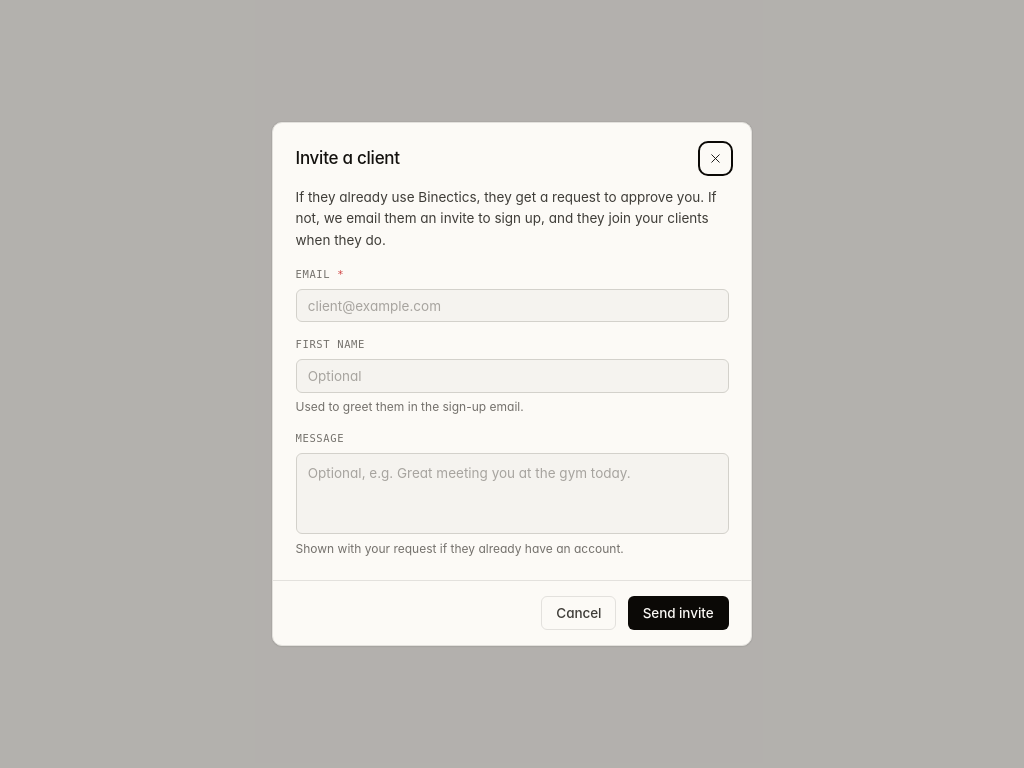
it: Invite client on a full plan › says what the plan includes and links Billing, not raw API text
In the field labelled "Email *": (512, 306) [296,289,728,322], type "ada@example.com"
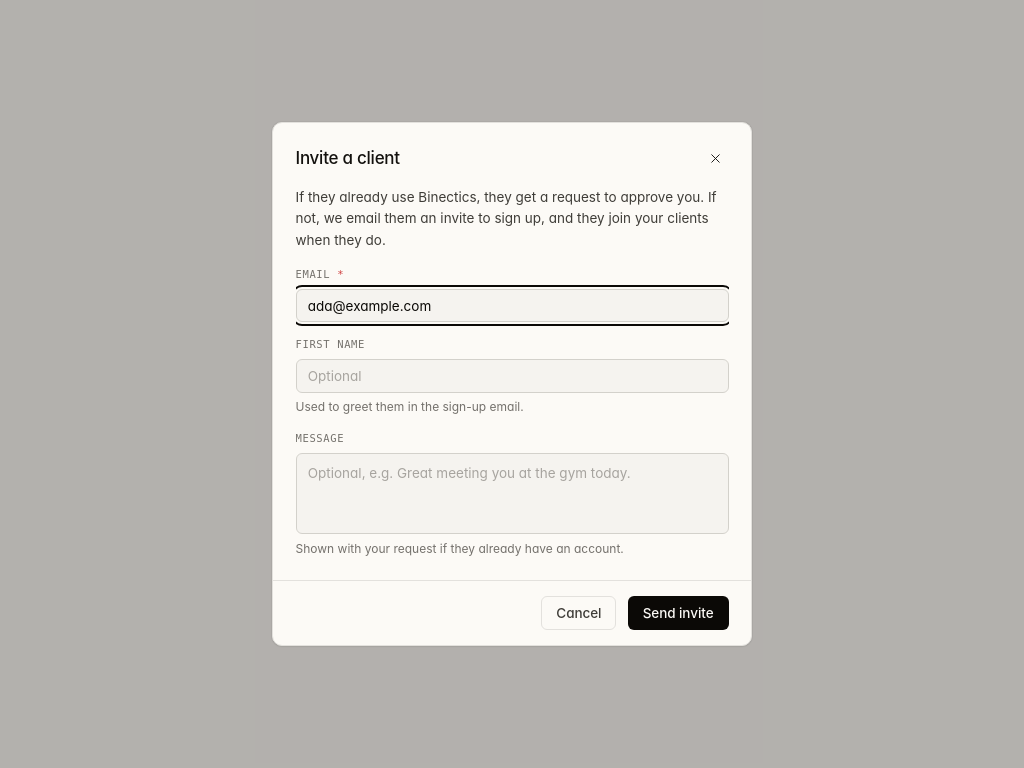
Click the button "Send invite": (678, 613) [628,596,728,630]
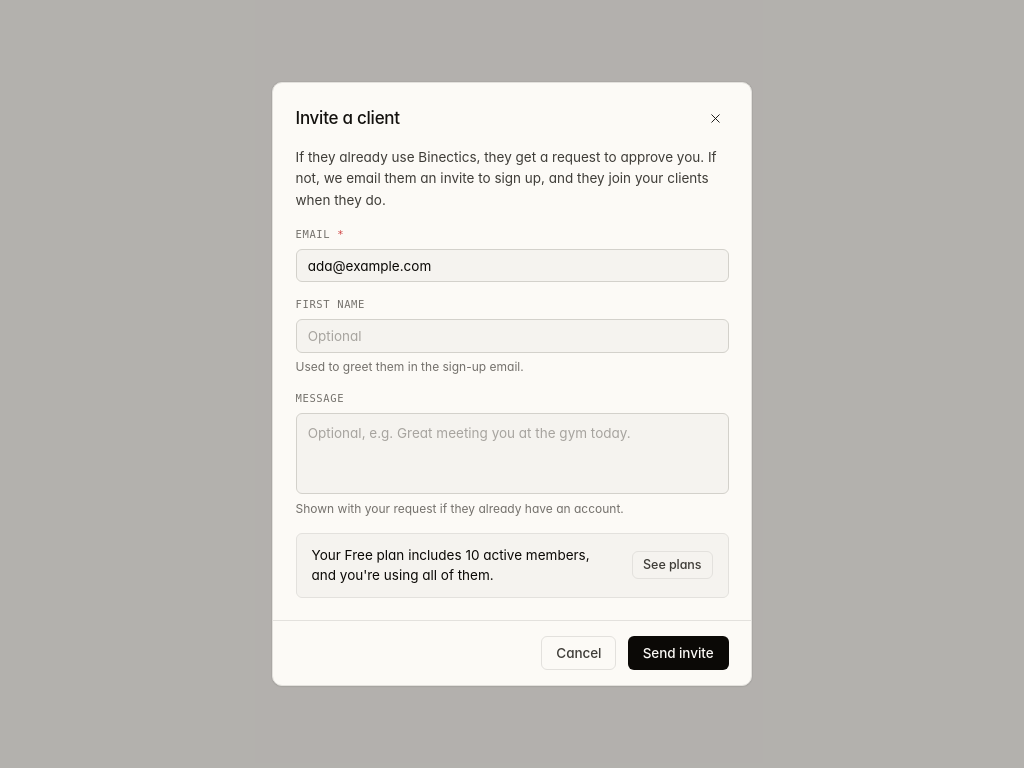
Result: the message with test id "plan-gate" shows "Your Free plan includes 10 active members, and you're using all of them." at [312,547,590,583]
Result: the link "See plans" is shown at [632,551,712,579]
